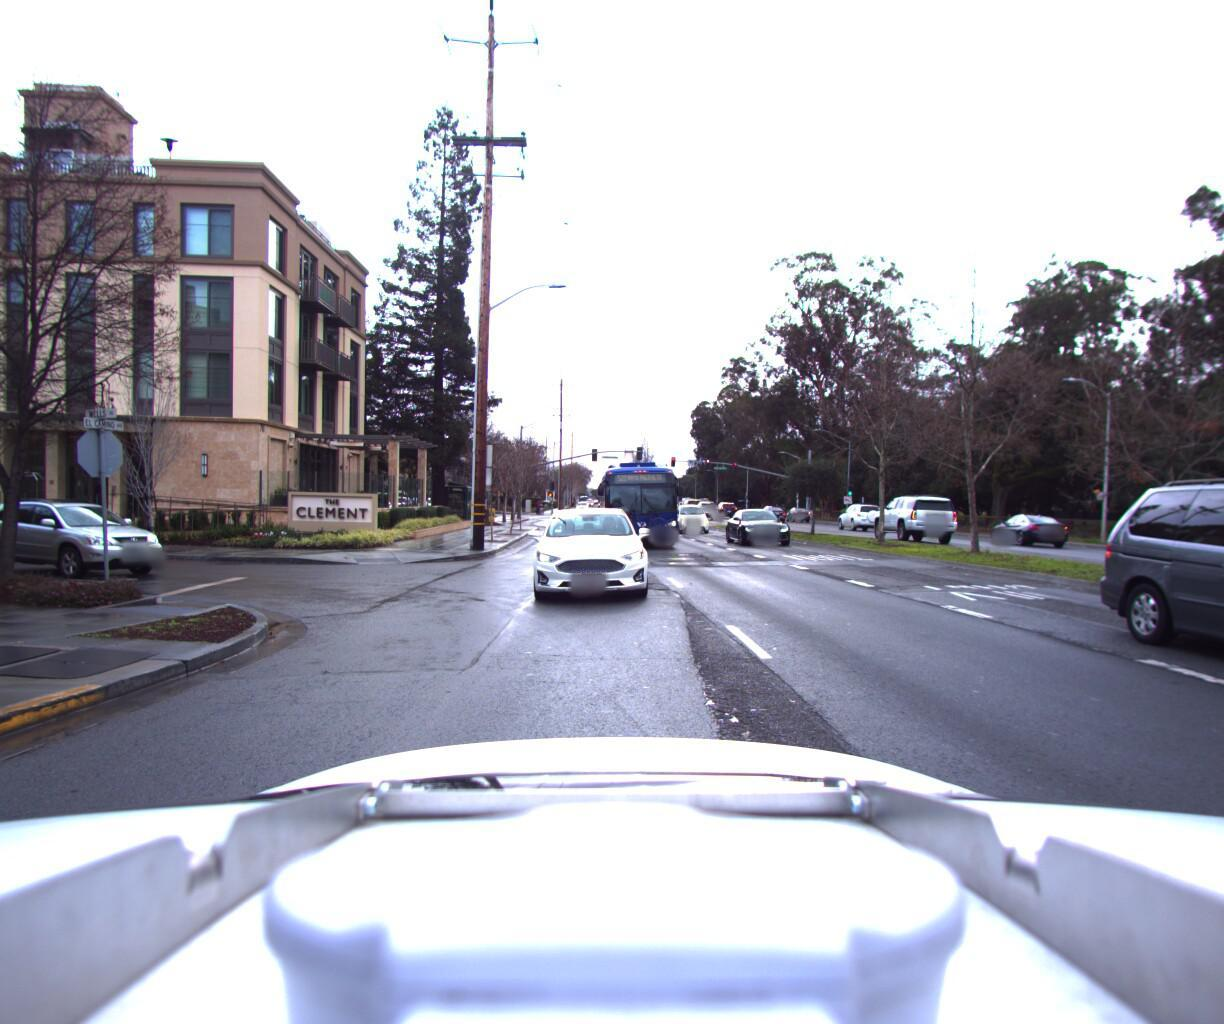bus: (584, 449, 685, 551)
car: (1088, 460, 1224, 773), (513, 493, 646, 618), (0, 499, 174, 589), (870, 497, 957, 549), (982, 513, 1068, 551), (723, 504, 787, 549), (835, 507, 886, 537), (667, 506, 708, 538), (692, 505, 721, 526), (713, 506, 741, 525), (784, 510, 812, 526)
